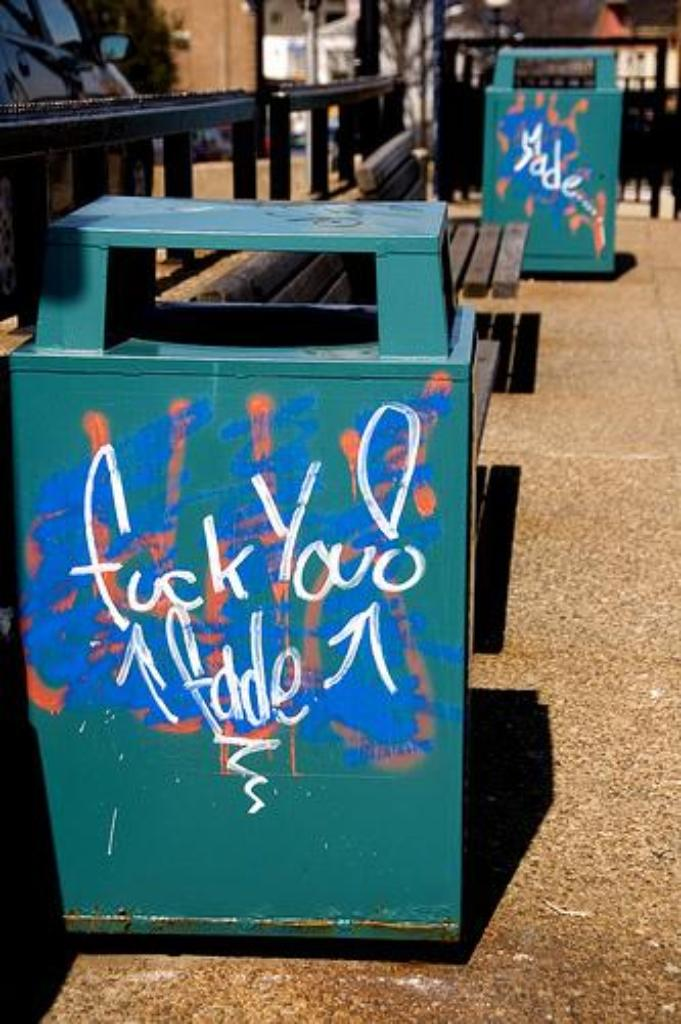dustbin: (20, 179, 529, 938)
